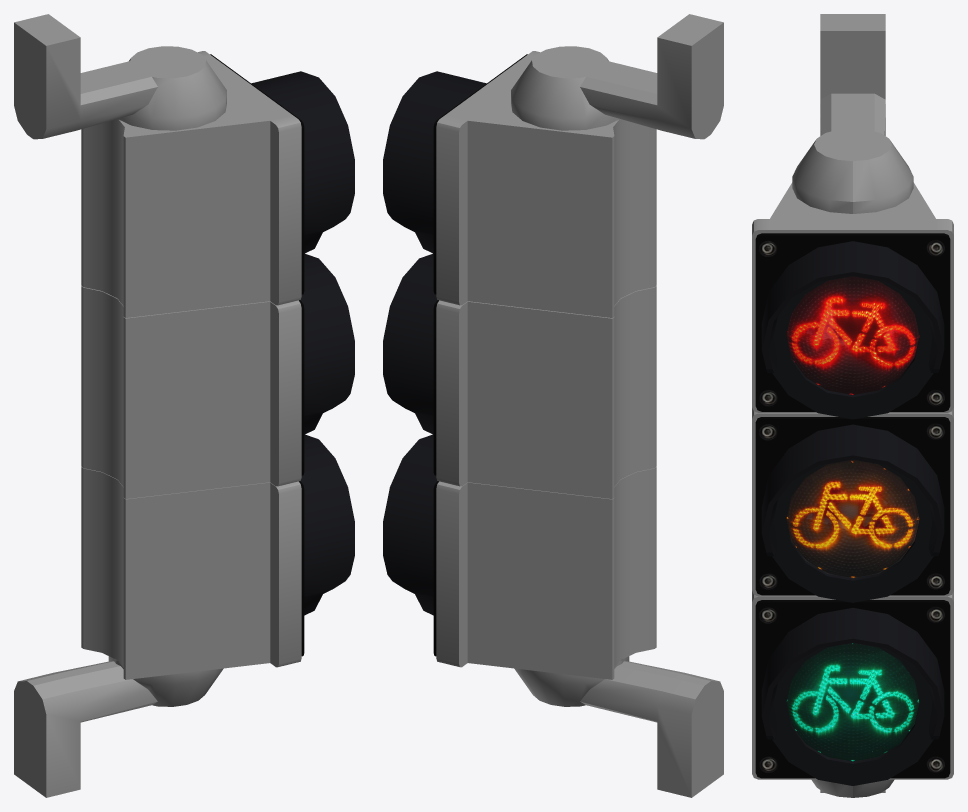
Rendered from Fahrradampel_rot_gelb_gruen_Mast.glb.
3 renders of one model, left to right at view 1: azimuth 30°, elevation 25°; view 2: azimuth 150°, elevation 25°; view 3: azimuth 270°, elevation 25°, orthographic.
Parts seen in each view (by area): view 1: Cube.003, Cube.001, Cube.004, Cube.006, Cube.005, BezierCurve.002, BezierCurve.003, BezierCurve.001; view 2: Cube.003, Cube.001, Cube.004, Cube.006, Cube.005, BezierCurve.002, BezierCurve.003, BezierCurve.001; view 3: BezierCurve.001, BezierCurve.002, BezierCurve.003, Cube.003, Cube.006, Cube.001, Cube.004, Cube.005.
Part boxes in pixels (x1=…): Cube.003: x1=81, y1=51, x2=304, y2=317; Cube.001: x1=81, y1=286, x2=304, y2=498; Cube.004: x1=81, y1=467, x2=304, y2=679; Cube.006: x1=14, y1=14, x2=226, y2=139; Cube.005: x1=14, y1=656, x2=223, y2=797; BezierCurve.002: x1=251, y1=71, x2=354, y2=253; BezierCurve.003: x1=300, y1=434, x2=354, y2=615; BezierCurve.001: x1=300, y1=253, x2=354, y2=434; Cube.003: x1=433, y1=51, x2=656, y2=317; Cube.001: x1=433, y1=286, x2=656, y2=498; Cube.004: x1=433, y1=467, x2=656, y2=679; Cube.006: x1=511, y1=14, x2=723, y2=139; Cube.005: x1=514, y1=656, x2=723, y2=797; BezierCurve.002: x1=383, y1=71, x2=486, y2=253; BezierCurve.003: x1=383, y1=434, x2=437, y2=615; BezierCurve.001: x1=383, y1=253, x2=437, y2=434; BezierCurve.001: x1=761, y1=424, x2=944, y2=602; BezierCurve.002: x1=761, y1=241, x2=944, y2=419; BezierCurve.003: x1=761, y1=608, x2=944, y2=785; Cube.003: x1=752, y1=182, x2=953, y2=412; Cube.006: x1=792, y1=14, x2=913, y2=213; Cube.001: x1=752, y1=408, x2=953, y2=596; Cube.004: x1=752, y1=591, x2=953, y2=779; Cube.005: x1=811, y1=779, x2=894, y2=797.
Size of the model in its own units: 0.2512 by 0.6251 by 0.15.
6 materials, 6 textured.
